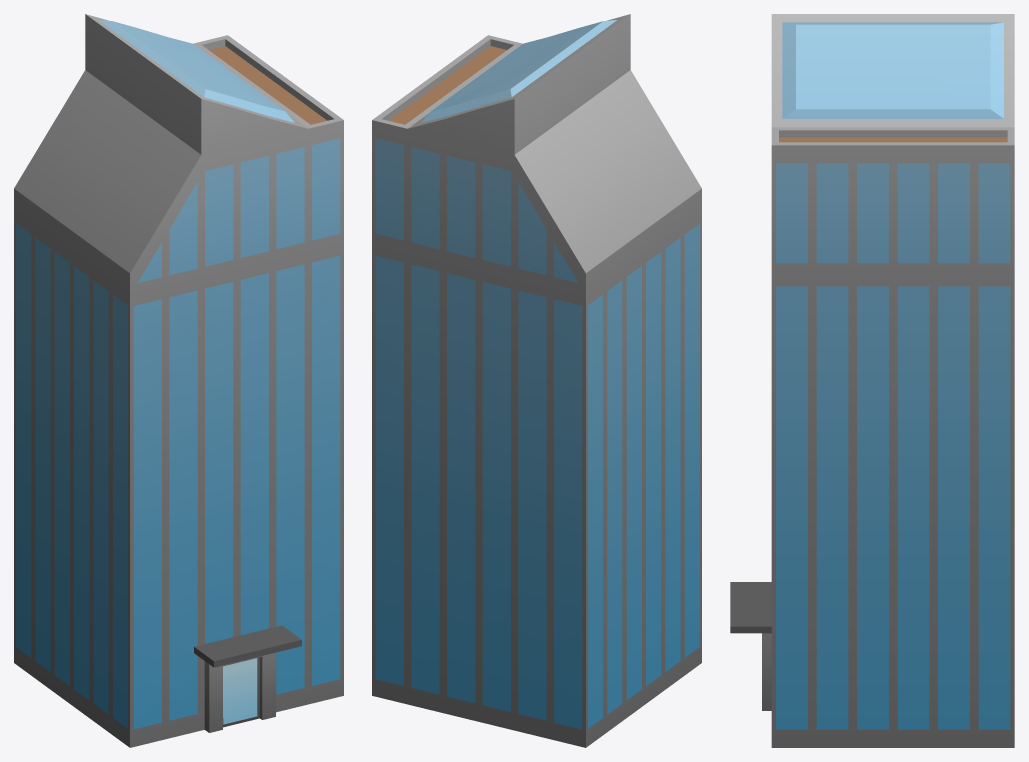
Rendered from building-model-01.glb.
3 views of the same model, side by side, from view 1: azimuth 30°, elevation 25°; view 2: azimuth 150°, elevation 25°; view 3: azimuth 270°, elevation 25° (orthographic). The views are drawn at different scales.
Parts seen in each view (by area): view 1: building-model-01; view 2: building-model-01; view 3: building-model-01.
Part boxes in pixels (box(x1,y1,x2,y2)): building-model-01: box(14, 14, 343, 747); building-model-01: box(372, 14, 701, 747); building-model-01: box(730, 14, 1014, 747).
Size of the model in its own units: 8.83 by 24.92 by 9.72.
Materials: 1 (1 with a texture image).
